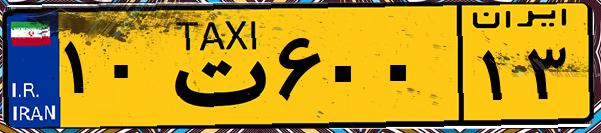0: (385, 28, 445, 110), (330, 28, 385, 110), (110, 28, 158, 98)
1: (57, 26, 110, 100), (475, 38, 525, 113)
3: (525, 38, 570, 115)
6: (270, 28, 330, 110)
ت: (158, 12, 270, 120)
